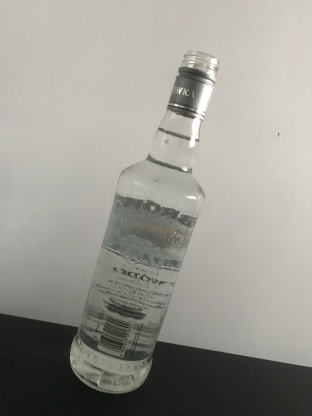nakretka: (164, 46, 220, 121)
